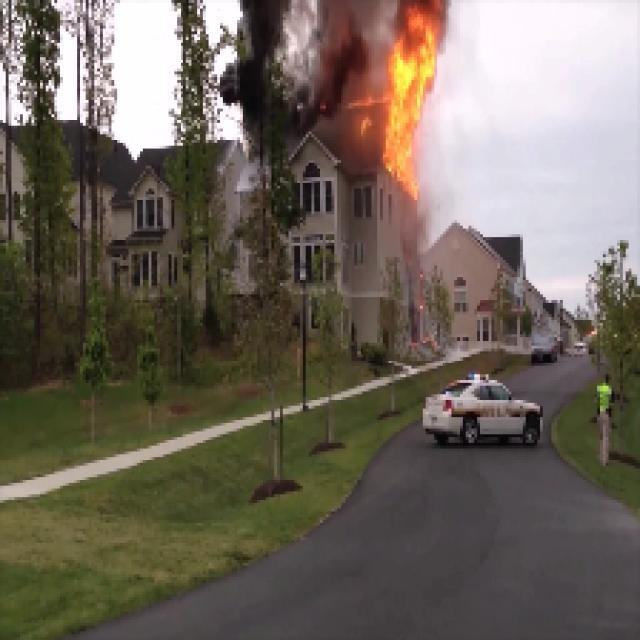Fire: (385, 33, 428, 192)
Smoke: (240, 3, 364, 116)
